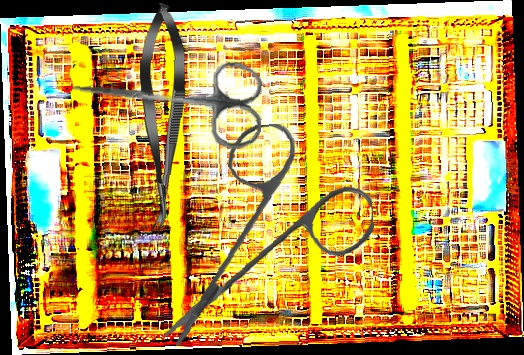Iris Scissors: (149, 117, 382, 348), (64, 46, 267, 152)
Micro Scissor: (137, 3, 187, 232)
